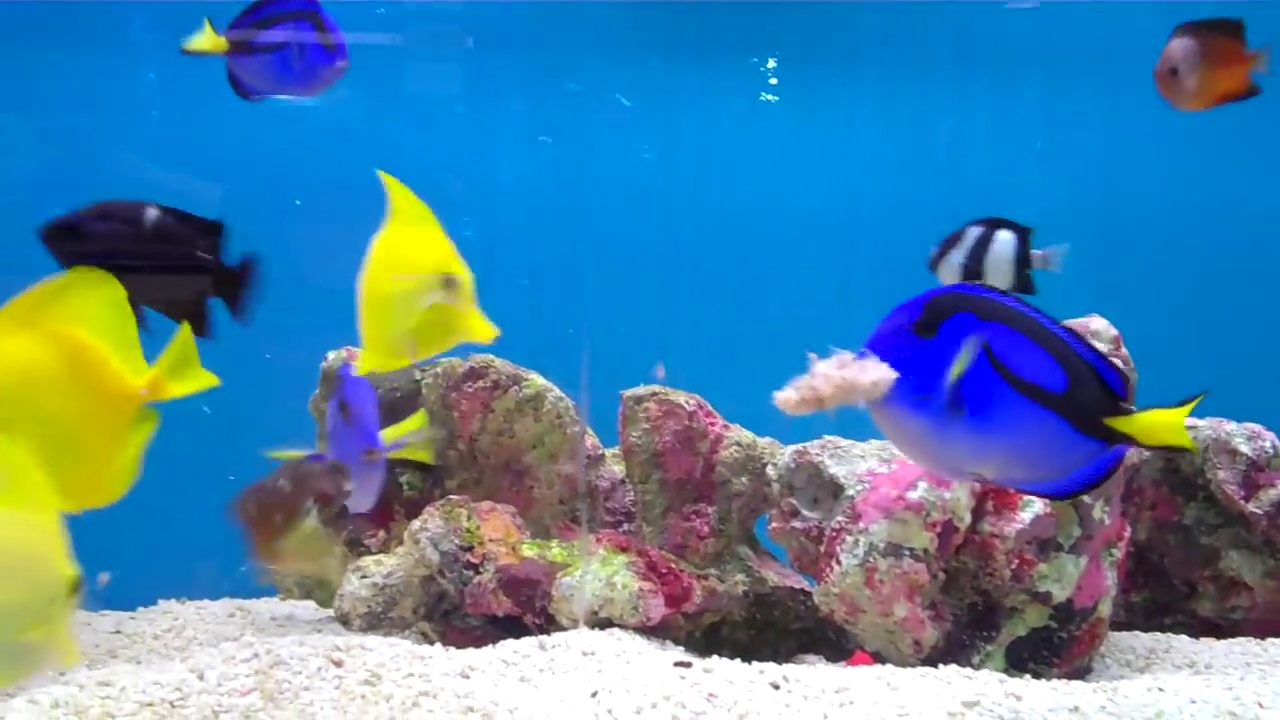blue tang surgeonfish: (822, 271, 1204, 508), (187, 0, 354, 116)
saddle butterfly fish: (335, 153, 515, 378)
